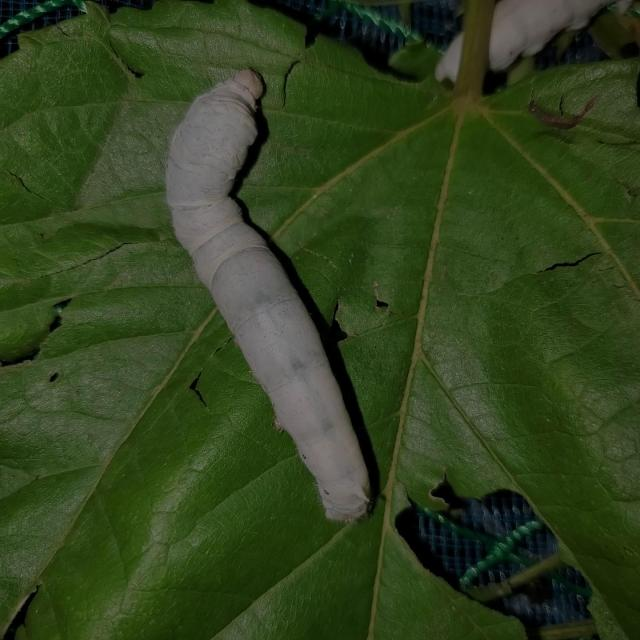Healthy: (158, 59, 381, 527)
